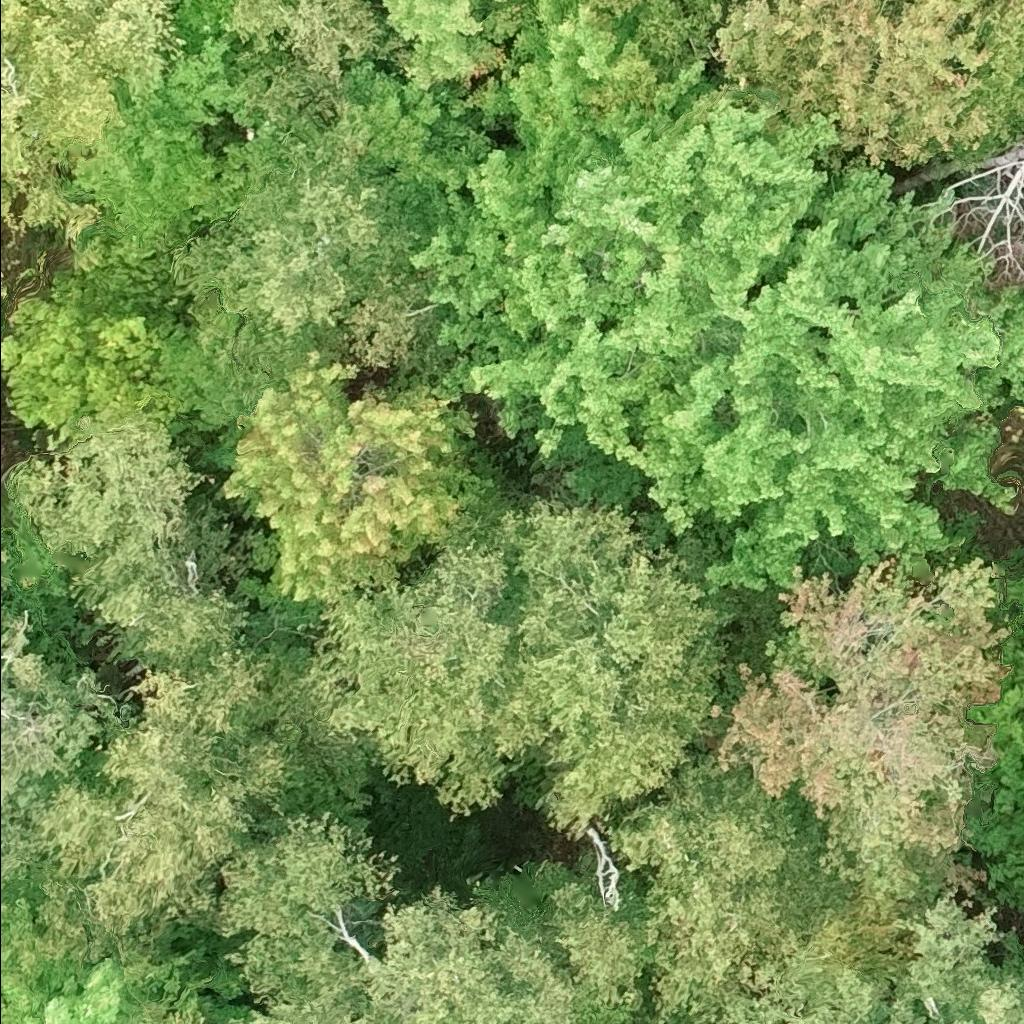crown: (407, 0, 846, 512), (642, 161, 1023, 597), (710, 553, 1011, 949), (17, 638, 312, 966), (487, 494, 737, 838), (607, 753, 906, 1023), (216, 347, 509, 615), (169, 101, 433, 376), (297, 532, 544, 824), (8, 417, 248, 662), (710, 0, 1023, 171), (214, 808, 401, 1007), (0, 568, 121, 866), (362, 886, 582, 1023), (0, 267, 177, 436), (0, 0, 188, 158), (227, 0, 403, 129), (886, 890, 1023, 1023), (0, 57, 97, 242), (962, 647, 1023, 910), (585, 0, 723, 114), (375, 0, 519, 91), (549, 885, 646, 1013), (770, 957, 929, 1023), (957, 17, 1023, 162), (334, 264, 421, 372), (0, 956, 138, 1023), (225, 978, 401, 1023), (132, 994, 208, 1023), (0, 851, 17, 882), (0, 273, 8, 300), (0, 541, 6, 564), (0, 904, 2, 914), (1022, 946, 1023, 957)
